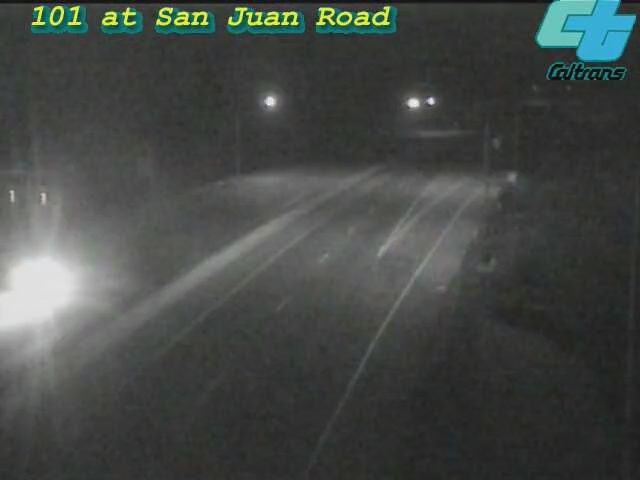vehicle: (1, 240, 75, 320)
